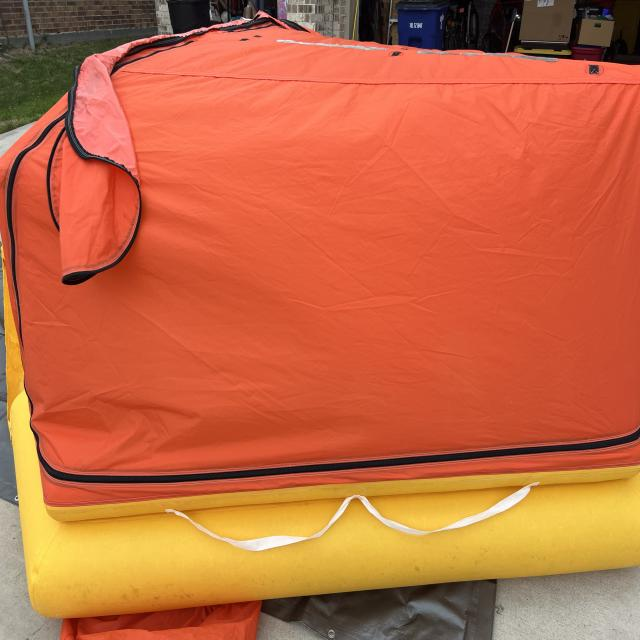Multi-person_life_raft: (1, 9, 640, 639)
